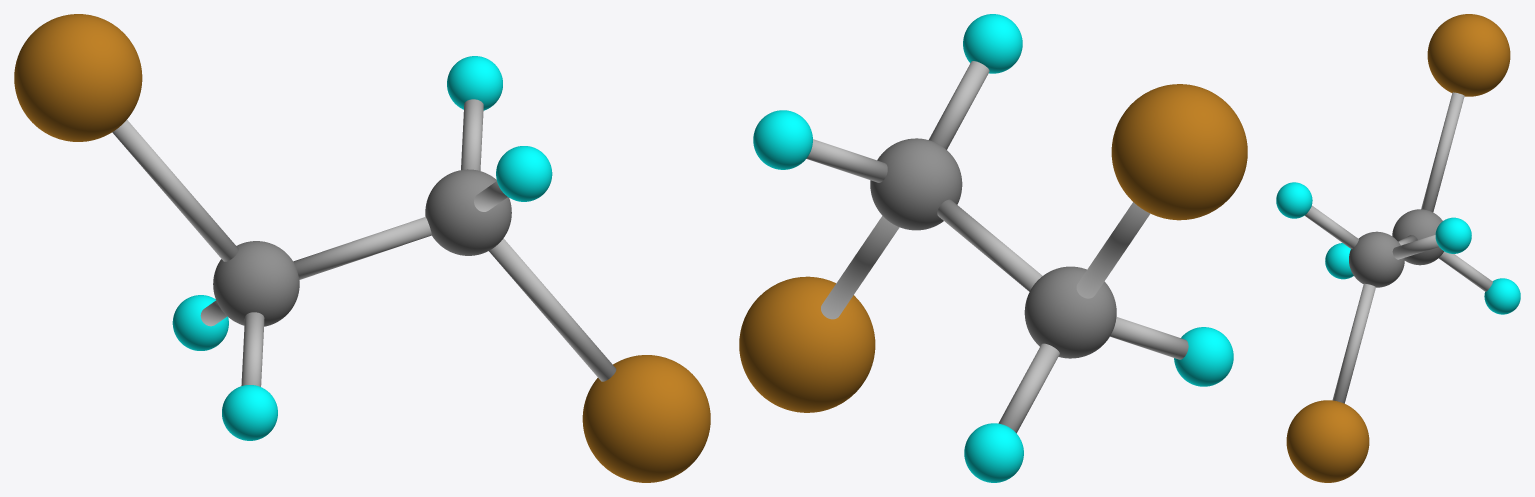
The model's file is 1,2-dibromoethane.glb.
3 renders of one model, left to right at view 1: azimuth 30°, elevation 25°; view 2: azimuth 150°, elevation 25°; view 3: azimuth 270°, elevation 25°, orthographic. The views are drawn at different scales.
Parts seen in each view (by area): view 1: CMAtom_0; view 2: CMAtom_0; view 3: CMAtom_0.
Boxes of the visible parts, box(x1,y1,x2,y2) form: CMAtom_0: box(14, 14, 710, 482); CMAtom_0: box(739, 14, 1247, 482); CMAtom_0: box(1276, 14, 1520, 482).
Bounding box in the file's own units: 0.4687 × 0.3843 × 0.2693.
